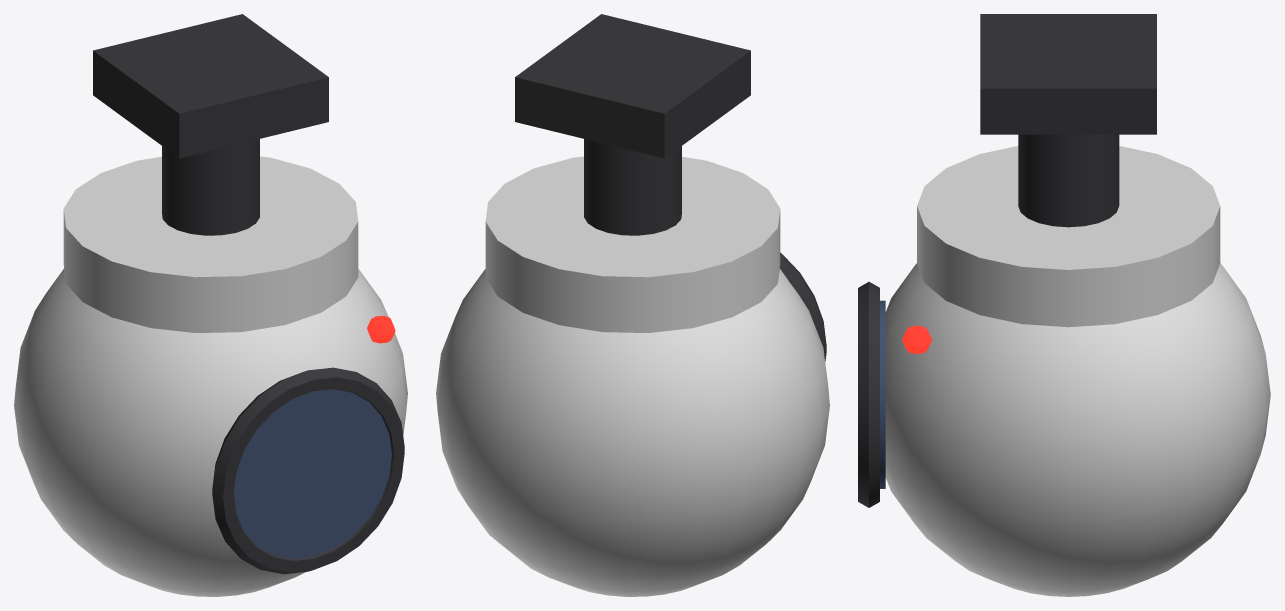
File: nose-camera.glb
The picture shows the model from 3 angles, left to right: view 1: azimuth 30°, elevation 25°; view 2: azimuth 150°, elevation 25°; view 3: azimuth 270°, elevation 25°; orthographic projection. The views are drawn at different scales.
Parts seen in each view (by area): view 1: nose-camera; view 2: nose-camera; view 3: nose-camera.
Part boxes in pixels (box(x1,y1,x2,y2)): nose-camera: box(14, 14, 407, 596); nose-camera: box(436, 14, 829, 596); nose-camera: box(858, 14, 1270, 596).
Bounding box in the file's own units: 0.32 × 0.46 × 0.3267.
